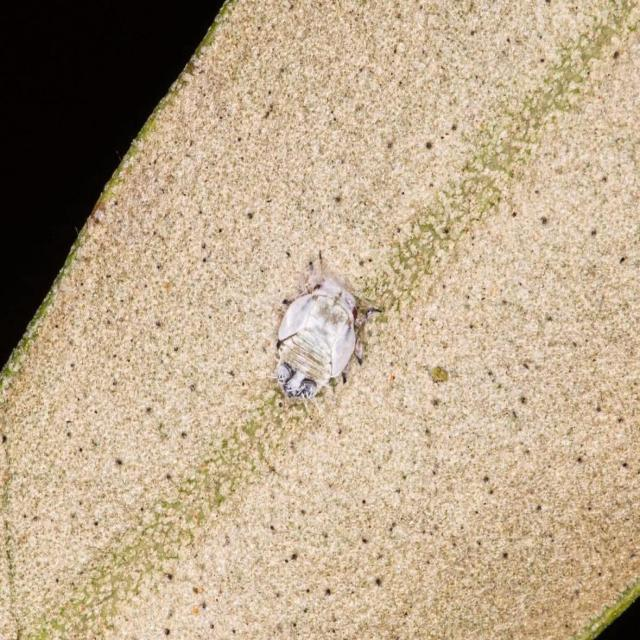Psyllid: (274, 250, 384, 416)
